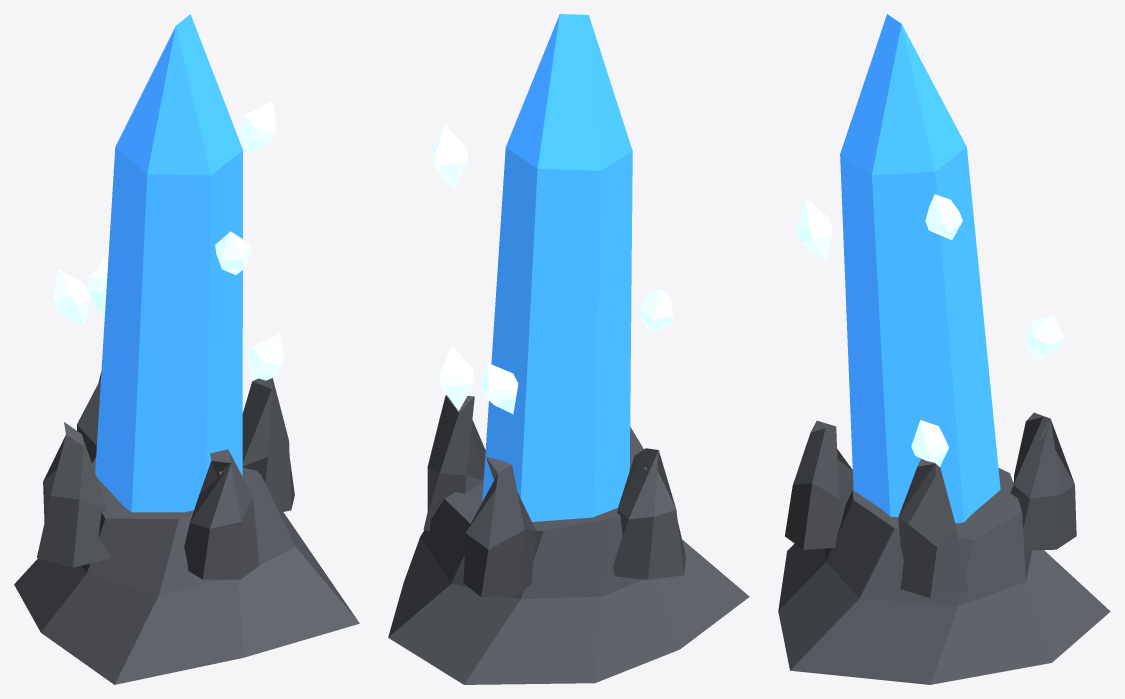
The model's file is PROP_17_RuneCrystal.fbx.
3 renders of one model, left to right at view 1: azimuth 30°, elevation 25°; view 2: azimuth 150°, elevation 25°; view 3: azimuth 270°, elevation 25°, orthographic.
Parts seen in each view (by area): view 1: PROP_17_RuneCrystal; view 2: PROP_17_RuneCrystal; view 3: PROP_17_RuneCrystal.
Boxes of the visible parts, x1,y1,x2,y2 form: PROP_17_RuneCrystal: (14,14,359,684); PROP_17_RuneCrystal: (388,14,749,684); PROP_17_RuneCrystal: (778,14,1110,684).
Size of the model in its own units: 156 by 315 by 160.
